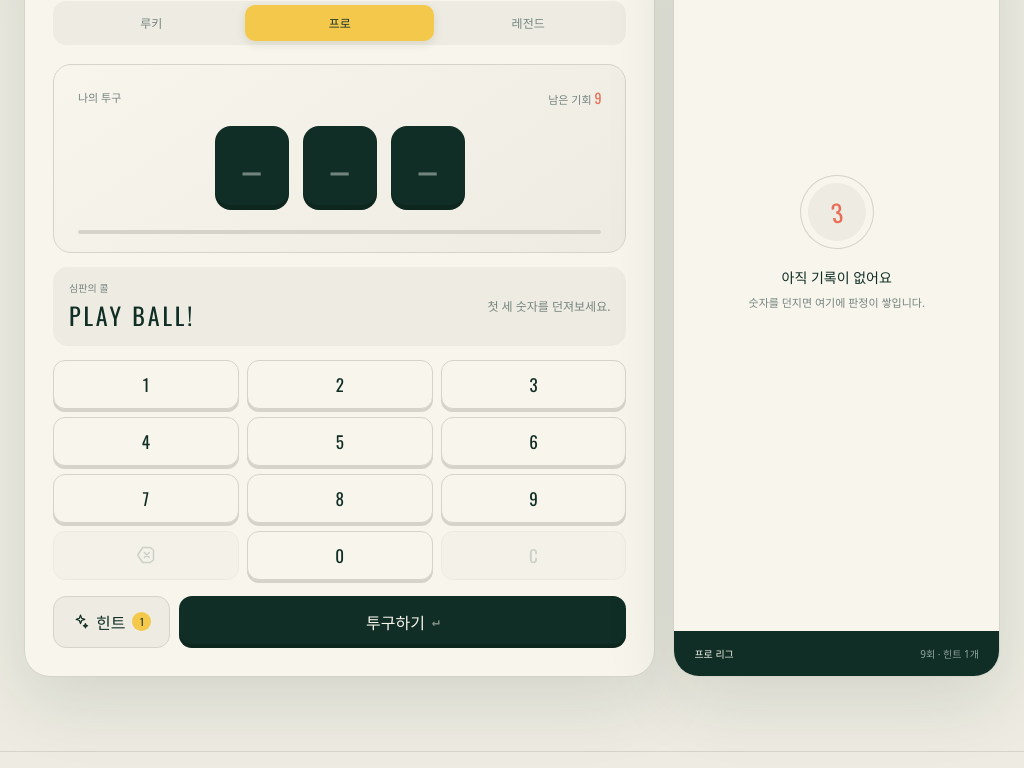
Test case: App › wins a game, reveals the answer and records the result
This screenshot has width=1024, height=768.
(page scrolled)
Click the button "1": (146, 384) [53,360,239,409]
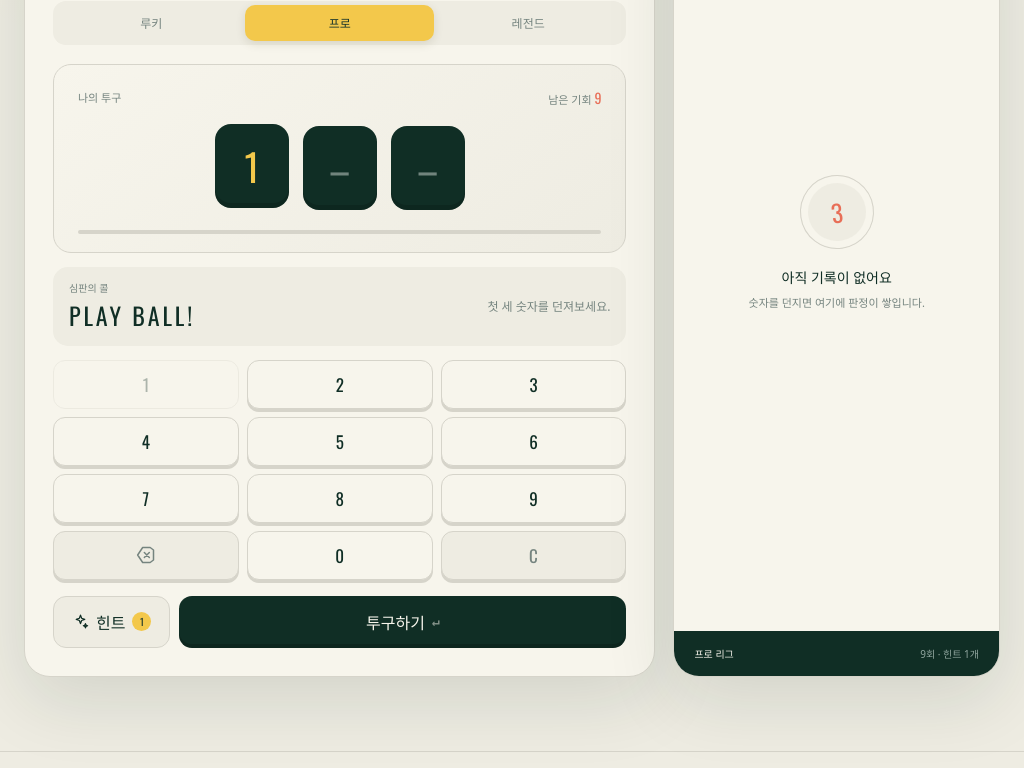
Click the button "2": (340, 384) [247,360,433,409]
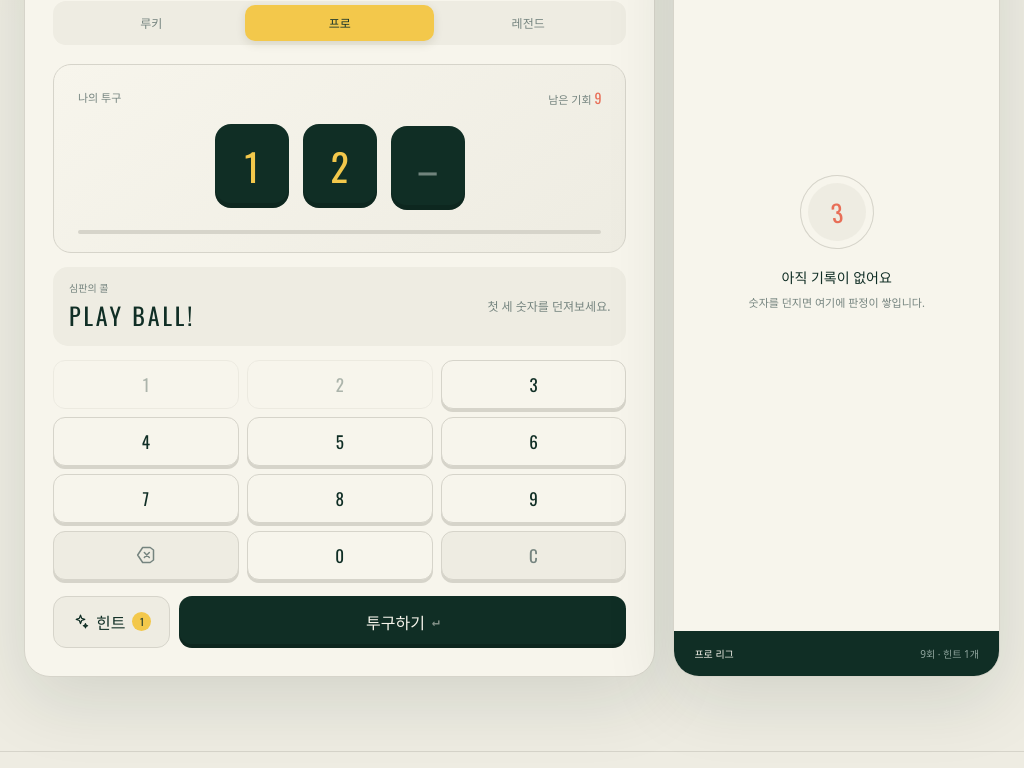
Click the button "3": (534, 384) [441,360,626,409]
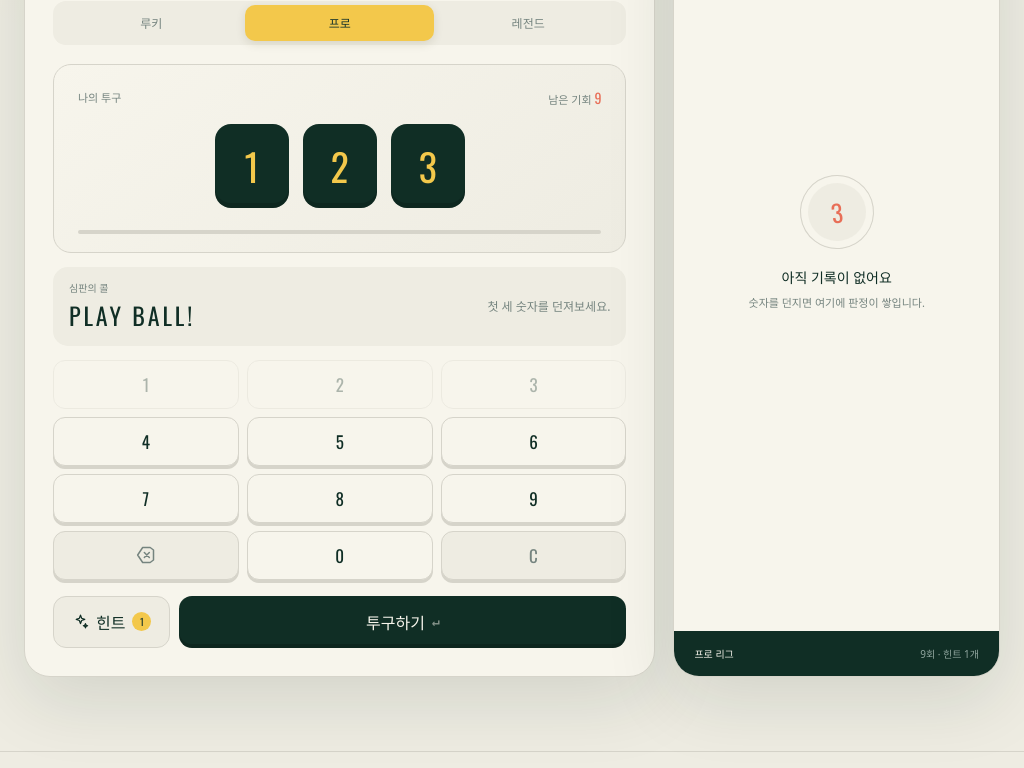
Click the button "투구하기 ↵": (403, 622) [180,596,626,648]
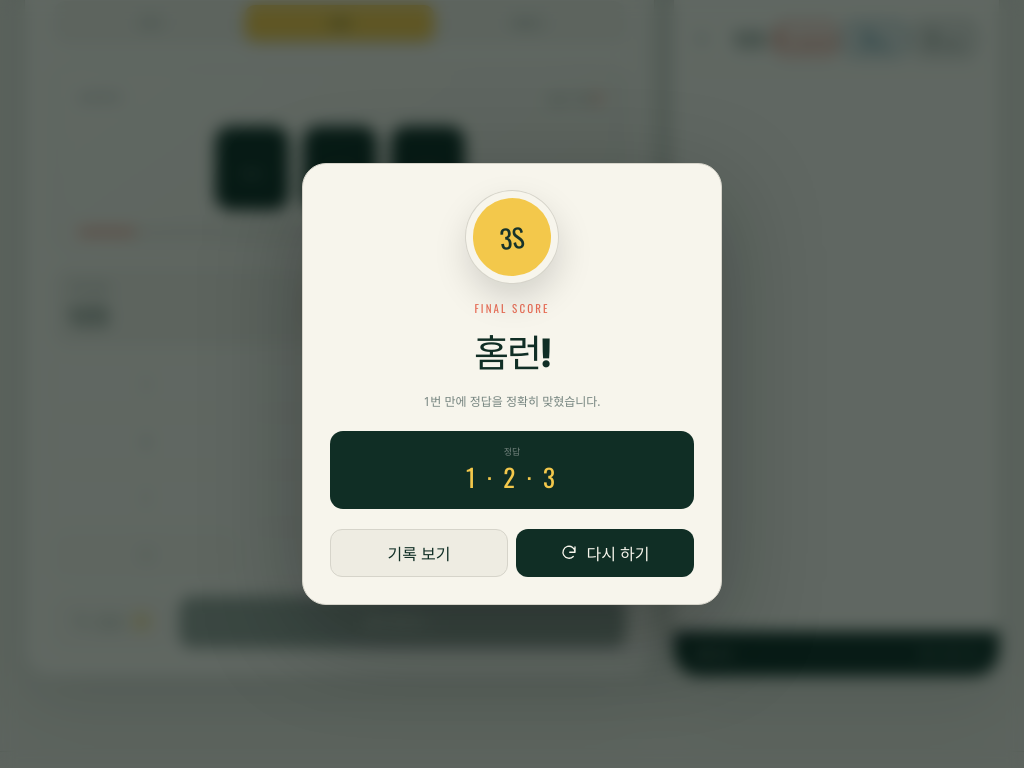
Result: the heading "홈런!" is shown at [474,337,550,375]
Result: the text "1 · 2 · 3" is shown at [466,458,558,495]
